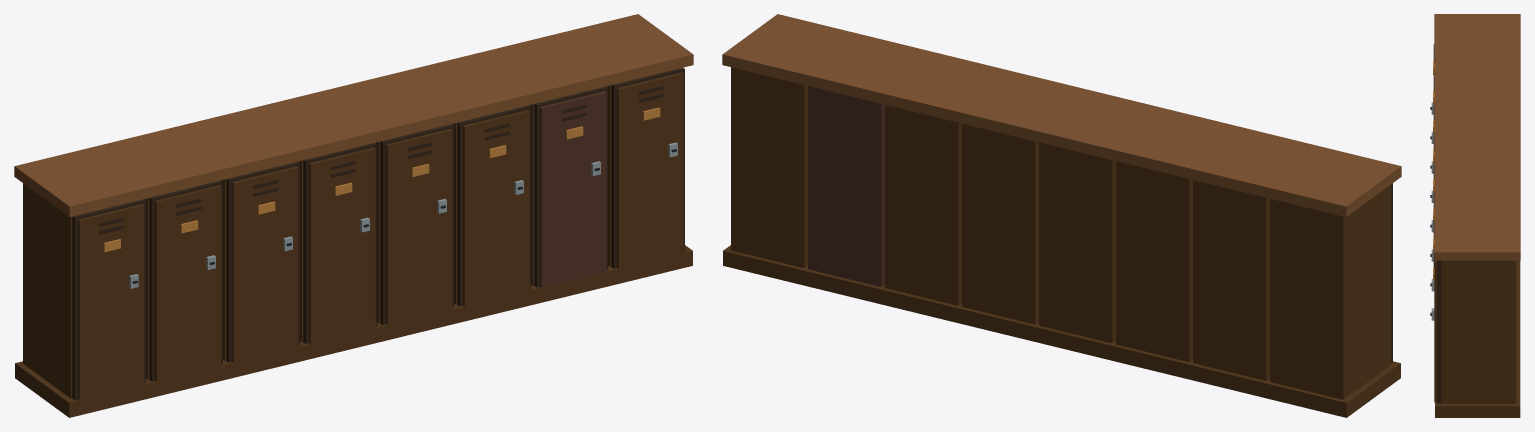
The model's file is mia-lockers.glb.
The picture shows the model from 3 angles, left to right: view 1: azimuth 30°, elevation 25°; view 2: azimuth 150°, elevation 25°; view 3: azimuth 270°, elevation 25°; orthographic projection. The views are drawn at different scales.
Visible parts, largest first — view 1: Body_wood, Body_oak, Body_grain, Body_glaze, Body_brass, Body_steel; view 2: Body_wood, Body_oak, Body_glaze; view 3: Body_oak, Body_wood, Body_grain, Body_steel, Body_brass.
Part boxes in pixels (box(x1,y1,x2,y2)): Body_wood: box(15, 72, 692, 417); Body_oak: box(14, 14, 693, 216); Body_grain: box(72, 67, 684, 400); Body_glaze: box(529, 91, 606, 287); Body_brass: box(104, 107, 660, 252); Body_steel: box(129, 142, 677, 288); Body_wood: box(723, 67, 1400, 417); Body_oak: box(722, 14, 1401, 216); Body_glaze: box(808, 86, 884, 286); Body_oak: box(1434, 14, 1520, 260); Body_wood: box(1434, 260, 1520, 417); Body_grain: box(1433, 44, 1441, 403); Body_steel: box(1431, 102, 1434, 320); Body_brass: box(1433, 62, 1434, 280).
Size of the model in its own units: 3.24 by 1.05 by 0.5205.
